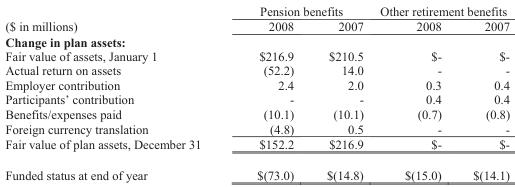table: (4, 3, 509, 181)
table column: (4, 3, 228, 181), (371, 3, 456, 181), (228, 3, 309, 181), (309, 3, 371, 181), (456, 3, 509, 181)
table column header: (4, 3, 509, 33)
table projected row header: (4, 33, 509, 48)
table row: (4, 135, 509, 158), (4, 158, 509, 181), (4, 3, 509, 18), (4, 18, 509, 33), (4, 33, 509, 48), (4, 62, 509, 77), (4, 91, 509, 106), (4, 106, 509, 121), (4, 48, 509, 62), (4, 77, 509, 91), (4, 121, 509, 135)
table spanning cell: (4, 3, 228, 33), (228, 3, 371, 18), (371, 3, 509, 18)
